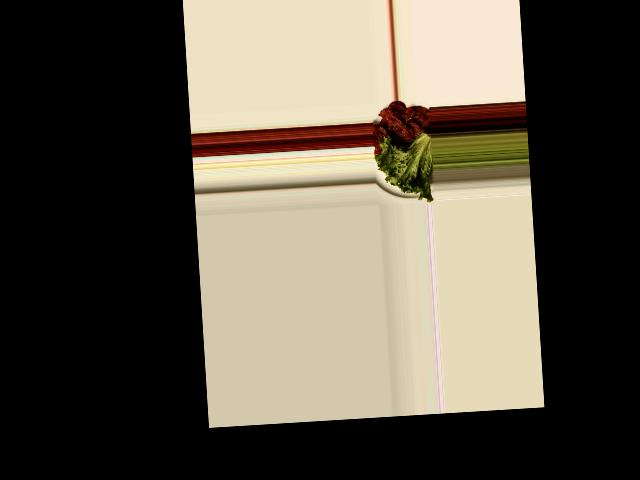lettuce: (375, 133, 435, 201)
